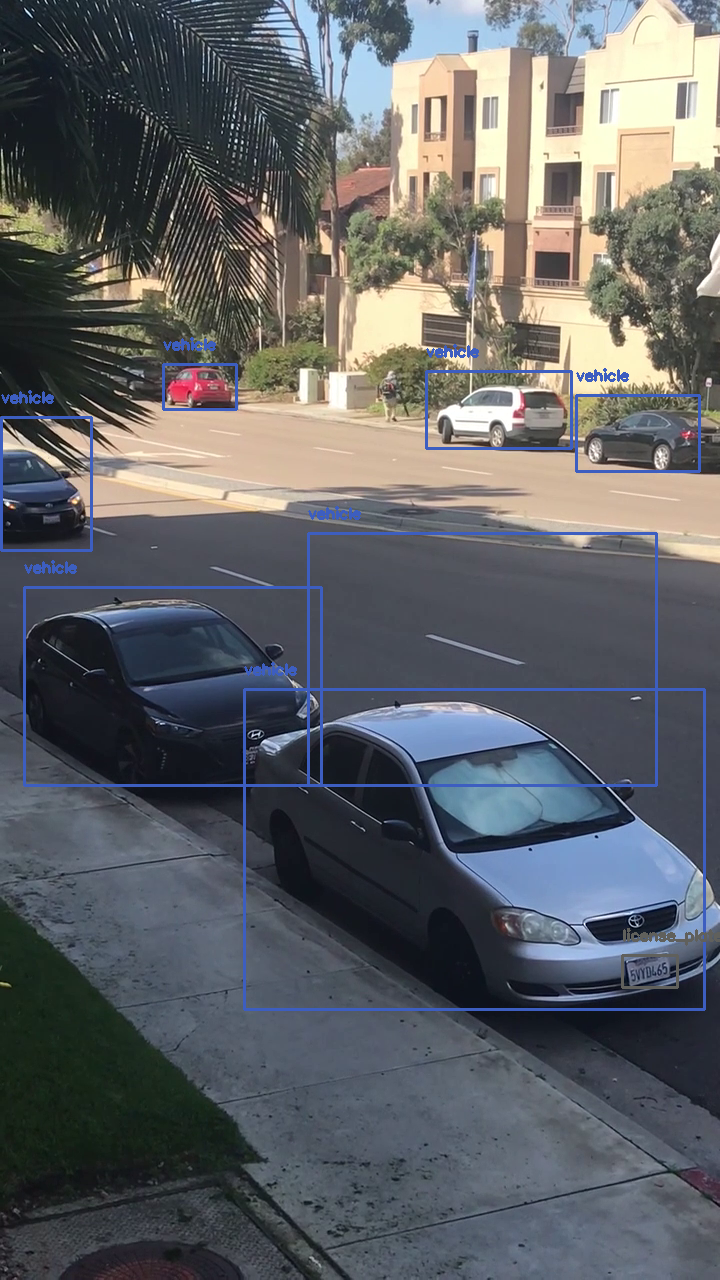license_plate: (622, 955, 677, 987)
vehicle: (244, 689, 704, 1009), (308, 533, 656, 785), (24, 587, 321, 785), (1, 417, 91, 550), (426, 371, 571, 448), (576, 395, 699, 471), (163, 364, 236, 409)
